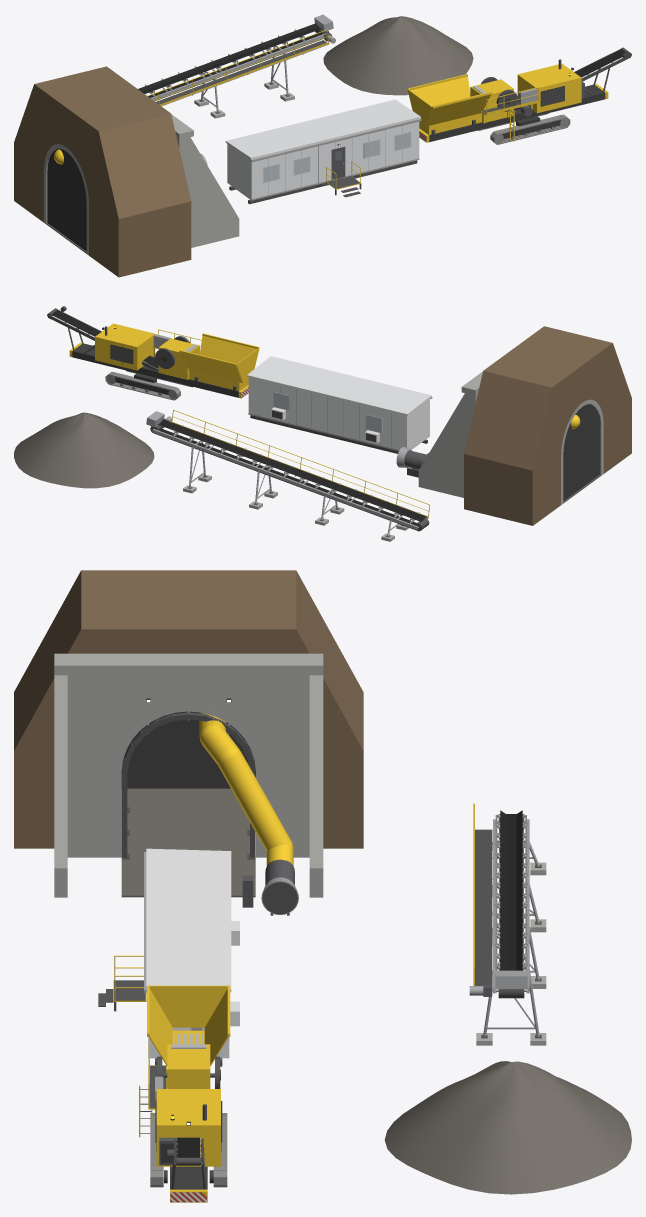
File: mine_processing_props.glb
3 renders of one model, top to bottom at view 1: azimuth 30°, elevation 25°; view 2: azimuth 150°, elevation 25°; view 3: azimuth 270°, elevation 25°, orthographic. The views are drawn at different scales.
Parts seen in each view (by area): view 1: underground_portal, site_office, mobile_jaw_crusher, stockpile_cone, conveyor_section; view 2: underground_portal, site_office, mobile_jaw_crusher, stockpile_cone, conveyor_section; view 3: underground_portal, stockpile_cone, mobile_jaw_crusher, site_office, conveyor_section.
Part boxes in pixels (<box>): underground_portal: <box>14,66,239,277</box>; site_office: <box>225,99,421,204</box>; mobile_jaw_crusher: <box>407,47,631,144</box>; stockpile_cone: <box>323,16,473,95</box>; conveyor_section: <box>138,14,335,118</box>; underground_portal: <box>396,326,631,525</box>; site_office: <box>247,356,432,453</box>; mobile_jaw_crusher: <box>47,306,259,400</box>; stockpile_cone: <box>14,412,154,488</box>; conveyor_section: <box>146,410,429,541</box>; underground_portal: <box>14,570,363,915</box>; stockpile_cone: <box>384,1061,631,1194</box>; mobile_jaw_crusher: <box>139,985,230,1202</box>; site_office: <box>98,848,239,1066</box>; conveyor_section: <box>469,803,546,1045</box>.
Bounding box in the file's own units: 40.54 × 9.02 × 22.98.
Materials: 18 (18 with a texture image).
